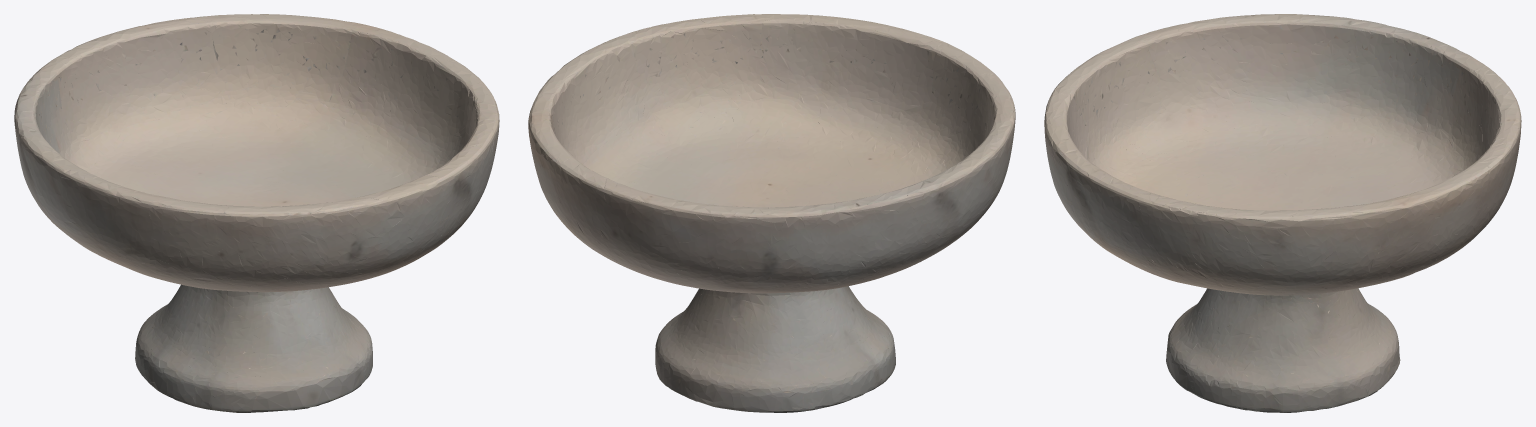
File: product-glam-marble-footed-bowl-white-02.glb
3 renders of one model, left to right at view 1: azimuth 30°, elevation 25°; view 2: azimuth 150°, elevation 25°; view 3: azimuth 270°, elevation 25°, orthographic.
Parts seen in each view (by area): view 1: geometry_0; view 2: geometry_0; view 3: geometry_0.
Part boxes in pixels (x1,y1,x2,y2): geometry_0: [14, 14, 499, 412]; geometry_0: [528, 14, 1015, 412]; geometry_0: [1044, 14, 1521, 412].
Size of the model in its own units: 0.2028 by 0.119 by 0.2032.
Materials: 1 (1 with a texture image).
